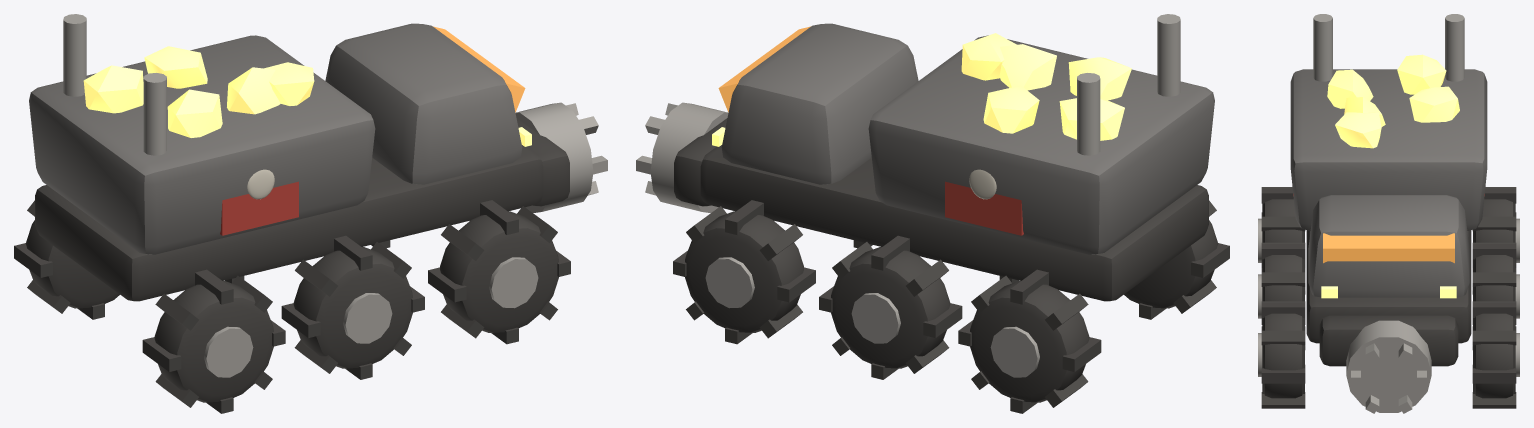
Rendered from hum_coletor.glb.
3 renders of one model, left to right at view 1: azimuth 30°, elevation 25°; view 2: azimuth 150°, elevation 25°; view 3: azimuth 270°, elevation 25°, orthographic. The views are drawn at different scales.
Parts seen in each view (by area): view 1: hum_coletor, wheel_r2_m, wheel_r1_m, wheel_r0_m, wheel_l2_m; view 2: hum_coletor, wheel_l2_m, wheel_l1_m, wheel_l0_m, wheel_r2_m; view 3: hum_coletor, wheel_l0_m, wheel_r0_m, wheel_l1_m, wheel_r1_m, wheel_l2_m, wheel_r2_m.
Part boxes in pixels (left/top/right/bottom): hum_coletor: left=29, top=14, right=607, bottom=301; wheel_r2_m: left=142, top=269, right=285, bottom=413; wheel_r1_m: left=281, top=235, right=424, bottom=379; wheel_r0_m: left=428, top=200, right=570, bottom=344; wheel_l2_m: left=14, top=200, right=119, bottom=319; hum_coletor: left=636, top=14, right=1214, bottom=301; wheel_l2_m: left=958, top=269, right=1101, bottom=413; wheel_l1_m: left=819, top=235, right=962, bottom=379; wheel_l0_m: left=673, top=200, right=815, bottom=344; wheel_r2_m: left=1124, top=200, right=1229, bottom=319; hum_coletor: left=1290, top=14, right=1487, bottom=413; wheel_l0_m: left=1472, top=301, right=1519, bottom=408; wheel_r0_m: left=1258, top=301, right=1305, bottom=408; wheel_l1_m: left=1472, top=242, right=1519, bottom=349; wheel_r1_m: left=1258, top=242, right=1305, bottom=349; wheel_l2_m: left=1472, top=187, right=1519, bottom=294; wheel_r2_m: left=1258, top=187, right=1305, bottom=294.
Size of the model in its own units: 1.45 by 0.8675 by 0.7952.
